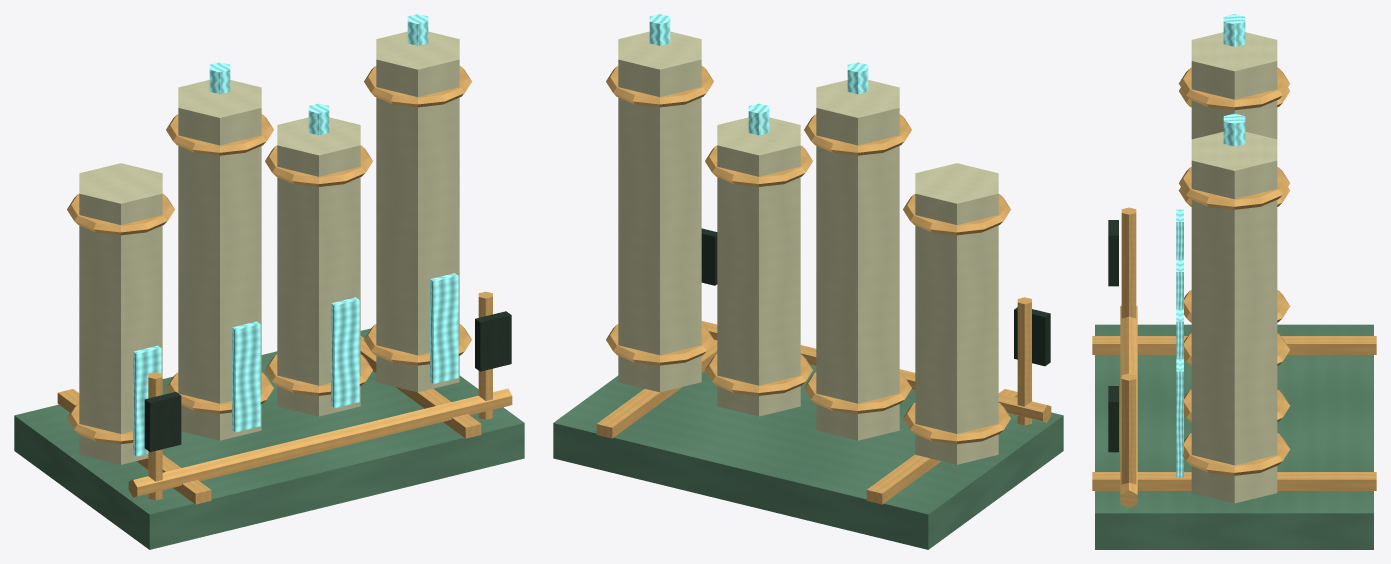
File: atlas100-s002-a01.lod1.glb
The picture shows the model from 3 angles, left to right: view 1: azimuth 30°, elevation 25°; view 2: azimuth 150°, elevation 25°; view 3: azimuth 270°, elevation 25°; orthographic projection. The views are drawn at different scales.
Parts seen in each view (by area): view 1: atlas100-s002-a01:part-000, atlas100-s002-a01:part-018, atlas100-s002-a01:part-008, atlas100-s002-a01:part-003, atlas100-s002-a01:part-013, atlas100-s002-a01:part-027, atlas100-s002-a01:part-017, atlas100-s002-a01:part-012, atlas100-s002-a01:part-022, atlas100-s002-a01:part-024, atlas100-s002-a01:part-026, atlas100-s002-a01:part-007 (+15 smaller); view 2: atlas100-s002-a01:part-000, atlas100-s002-a01:part-008, atlas100-s002-a01:part-018, atlas100-s002-a01:part-003, atlas100-s002-a01:part-013, atlas100-s002-a01:part-002, atlas100-s002-a01:part-023, atlas100-s002-a01:part-001, atlas100-s002-a01:part-005, atlas100-s002-a01:part-020, atlas100-s002-a01:part-004, atlas100-s002-a01:part-015 (+10 smaller); view 3: atlas100-s002-a01:part-000, atlas100-s002-a01:part-018, atlas100-s002-a01:part-008, atlas100-s002-a01:part-002, atlas100-s002-a01:part-001, atlas100-s002-a01:part-027, atlas100-s002-a01:part-023, atlas100-s002-a01:part-025, atlas100-s002-a01:part-010, atlas100-s002-a01:part-020, atlas100-s002-a01:part-019, atlas100-s002-a01:part-022 (+10 smaller).
Part boxes in pixels (x1,y1,x2,y2): atlas100-s002-a01:part-000: [14, 328, 524, 549]; atlas100-s002-a01:part-018: [376, 31, 459, 392]; atlas100-s002-a01:part-008: [178, 80, 261, 440]; atlas100-s002-a01:part-003: [79, 163, 162, 464]; atlas100-s002-a01:part-013: [277, 117, 360, 416]; atlas100-s002-a01:part-027: [128, 388, 512, 497]; atlas100-s002-a01:part-017: [331, 297, 359, 407]; atlas100-s002-a01:part-012: [232, 321, 260, 432]; atlas100-s002-a01:part-022: [430, 273, 458, 383]; atlas100-s002-a01:part-024: [144, 392, 181, 452]; atlas100-s002-a01:part-026: [475, 311, 511, 371]; atlas100-s002-a01:part-007: [133, 345, 161, 456]; atlas100-s002-a01:part-000: [553, 365, 1063, 549]; atlas100-s002-a01:part-008: [816, 80, 899, 440]; atlas100-s002-a01:part-018: [618, 31, 701, 392]; atlas100-s002-a01:part-003: [915, 163, 998, 464]; atlas100-s002-a01:part-013: [717, 117, 800, 416]; atlas100-s002-a01:part-002: [596, 339, 717, 438]; atlas100-s002-a01:part-023: [1017, 297, 1031, 425]; atlas100-s002-a01:part-001: [866, 389, 1017, 504]; atlas100-s002-a01:part-005: [903, 194, 1010, 235]; atlas100-s002-a01:part-020: [606, 66, 713, 107]; atlas100-s002-a01:part-004: [903, 403, 1010, 444]; atlas100-s002-a01:part-015: [705, 145, 812, 186]; atlas100-s002-a01:part-000: [1095, 324, 1373, 549]; atlas100-s002-a01:part-018: [1191, 131, 1277, 503]; atlas100-s002-a01:part-008: [1191, 32, 1277, 139]; atlas100-s002-a01:part-002: [1092, 472, 1376, 490]; atlas100-s002-a01:part-001: [1092, 336, 1376, 354]; atlas100-s002-a01:part-027: [1120, 305, 1137, 508]; atlas100-s002-a01:part-023: [1121, 207, 1136, 318]; atlas100-s002-a01:part-025: [1121, 373, 1136, 484]; atlas100-s002-a01:part-010: [1178, 67, 1290, 110]; atlas100-s002-a01:part-020: [1179, 167, 1289, 209]; atlas100-s002-a01:part-019: [1182, 433, 1290, 475]; atlas100-s002-a01:part-022: [1176, 359, 1183, 476].
Size of the model in its own units: 3 by 2.93 by 1.84.
5 materials, 5 textured.
